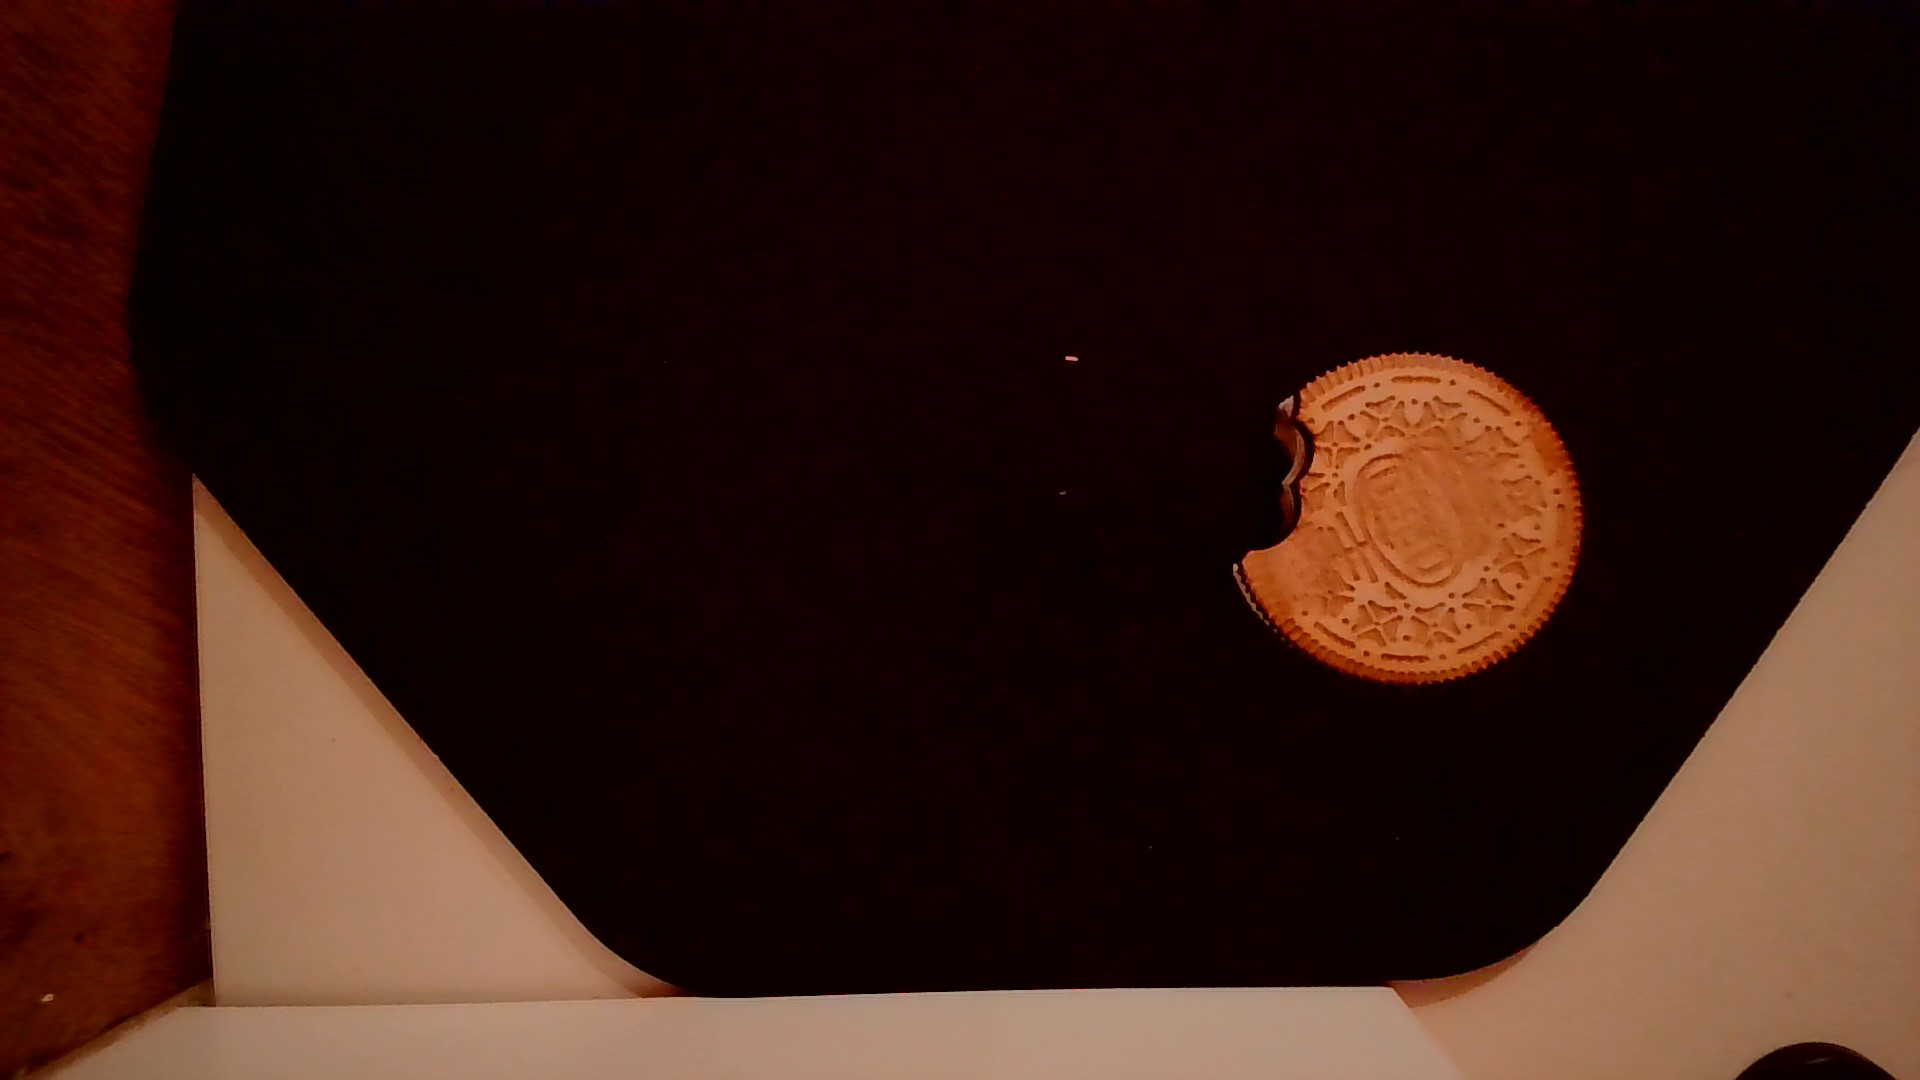Effacé: (1394, 436, 1502, 542), (1245, 542, 1323, 634)
Mangé: (1215, 377, 1345, 583)
Oréo: (1226, 345, 1592, 691)
